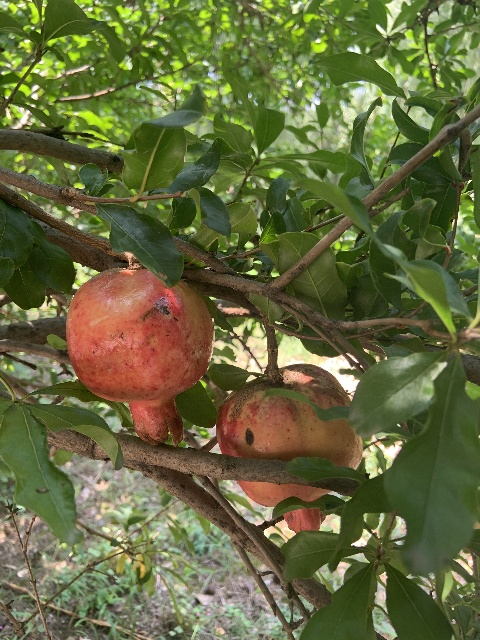ripe: (66, 267, 214, 447), (216, 363, 362, 533)
